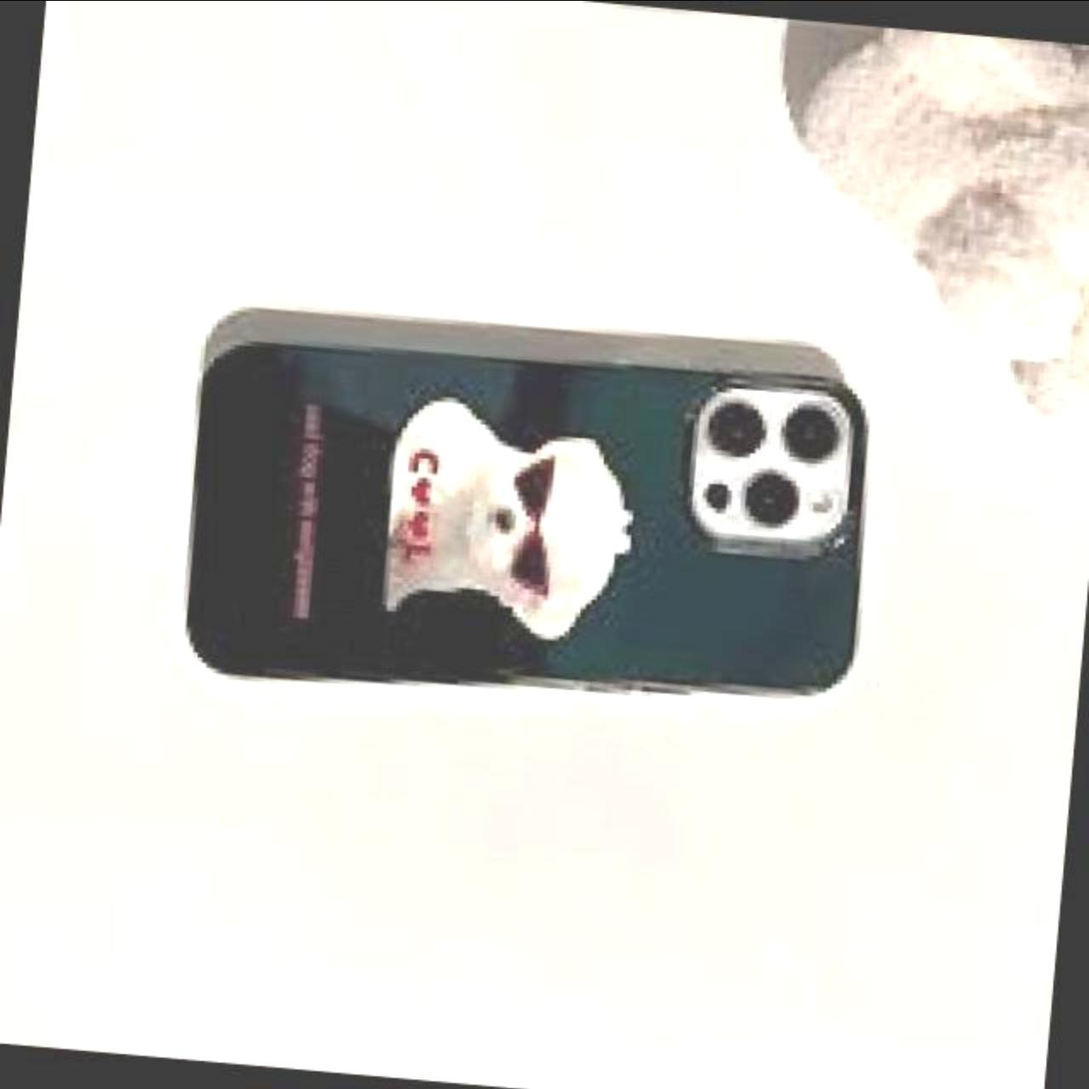phone: (185, 336, 868, 700)
